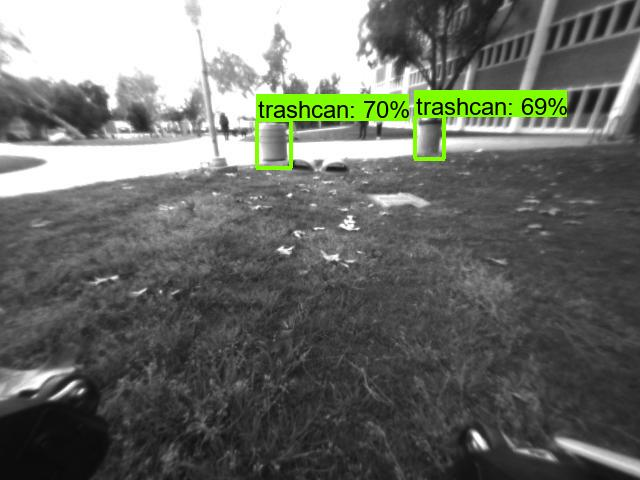trashcan: (264, 120, 293, 159), (417, 117, 442, 154)
